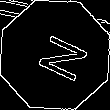N_NW: (24, 26, 86, 84)
